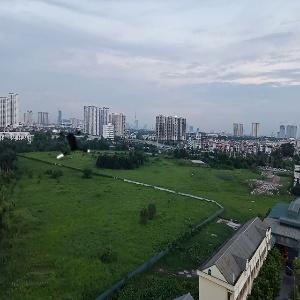drone: (47, 123, 92, 168)
